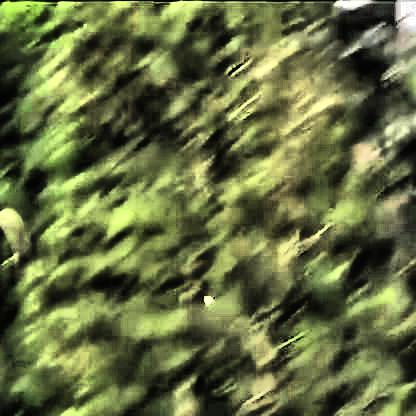golfball: (200, 292, 213, 305)
